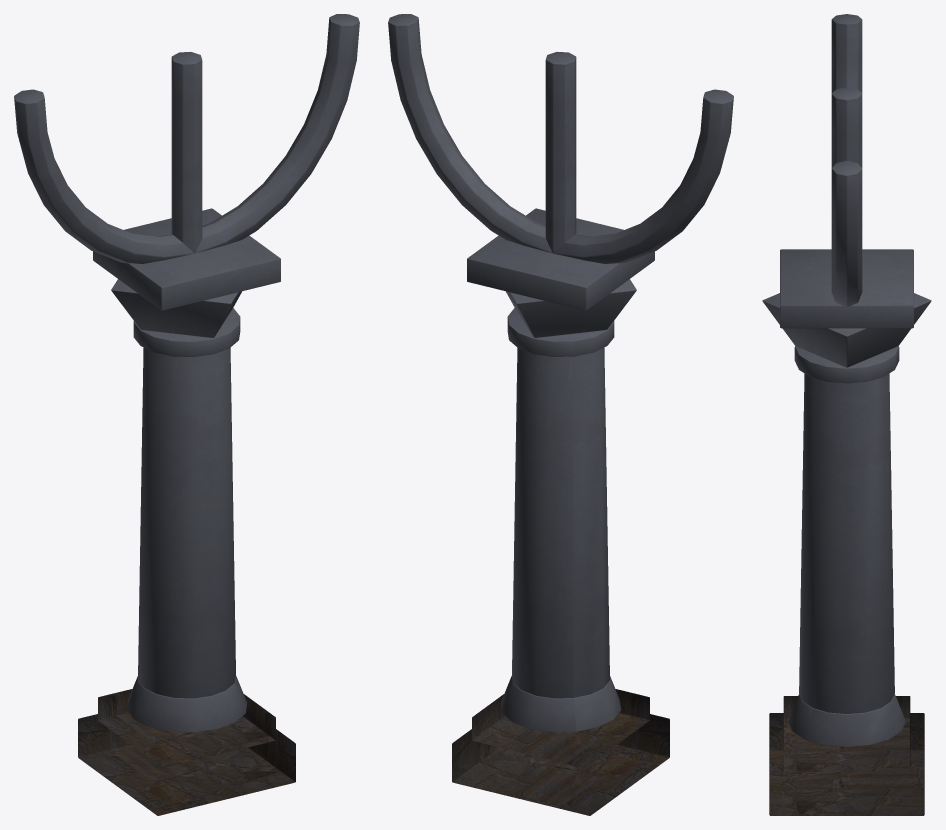
File: gothic_pillar_arch.glb
3 renders of one model, left to right at view 1: azimuth 30°, elevation 25°; view 2: azimuth 150°, elevation 25°; view 3: azimuth 270°, elevation 25°, orthographic. The views are drawn at different scales.
Parts seen in each view (by area): view 1: Shaft, Plinth, RibPX, Abacus, RibNX, RibPY, PlinthStep, BaseMould, Capital, ShaftCollar; view 2: Shaft, Plinth, RibPX, Abacus, RibNX, RibPY, PlinthStep, BaseMould, Capital, ShaftCollar; view 3: Shaft, Abacus, Plinth, PlinthStep, RibPX, Capital, BaseMould, RibNX, RibPY, ShaftCollar.
Boxes of the visible parts, x1,y1,x2,y2 form: Shaft: (138,348,235,698); Plinth: (78,714,295,815); RibPX: (195,14,359,253); Abacus: (93,208,280,310); RibNX: (14,89,194,263); RibPY: (171,51,202,253); PlinthStep: (98,689,275,767); BaseMould: (126,676,247,732); Capital: (111,279,241,337); ShaftCollar: (133,308,240,356); Shaft: (512,348,609,698); Plinth: (452,714,669,815); RibPX: (388,14,552,253); Abacus: (467,208,654,310); RibNX: (553,89,733,263); RibPY: (545,51,576,253); PlinthStep: (472,689,649,767); BaseMould: (500,676,621,732); Capital: (506,279,636,337); ShaftCollar: (507,308,614,356); Shaft: (799,373,894,713); Abacus: (780,249,913,328); Plinth: (769,713,924,815); PlinthStep: (783,696,910,771); RibPX: (831,160,862,306); Capital: (762,293,931,367); BaseMould: (788,694,905,746); RibNX: (831,14,862,93); RibPY: (831,87,862,167); ShaftCollar: (794,346,899,383).
Size of the model in its own units: 2.72 by 5.41 by 1.2.
Materials: 2 (2 with a texture image).
